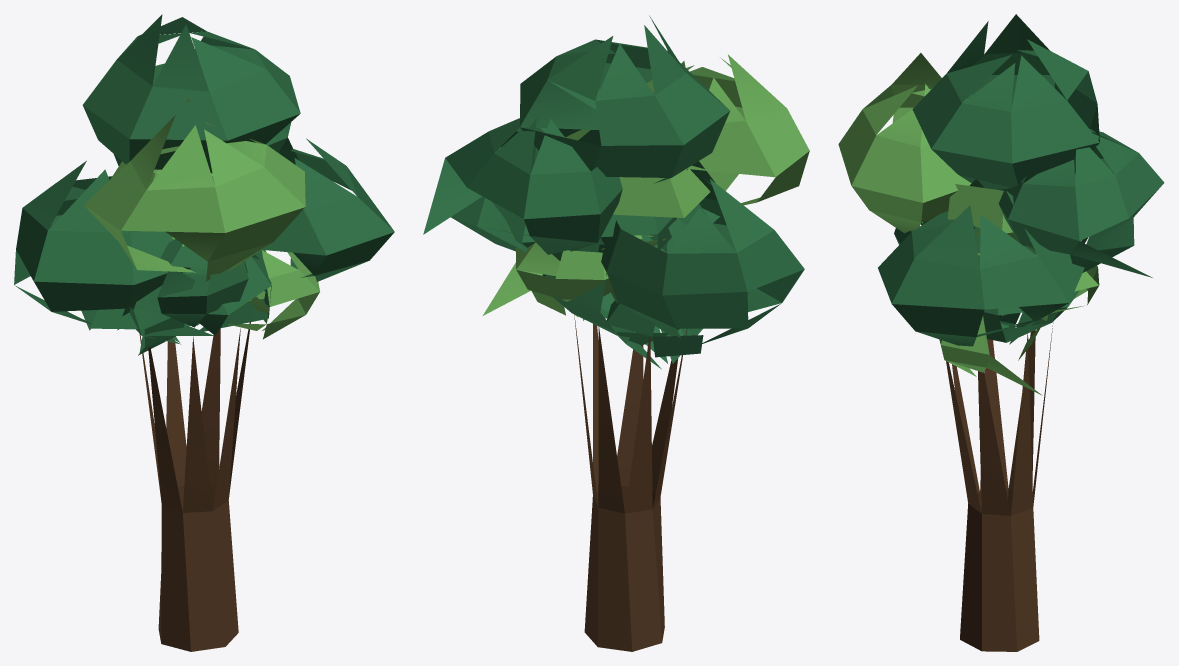
File: tree_c_lod1.glb
3 renders of one model, left to right at view 1: azimuth 30°, elevation 25°; view 2: azimuth 150°, elevation 25°; view 3: azimuth 270°, elevation 25°, orthographic.
Visible parts, largest first — view 1: TREE_C; view 2: TREE_C; view 3: TREE_C.
Boxes of the visible parts, x1,y1,x2,y2 form: TREE_C: [14, 14, 394, 651]; TREE_C: [423, 15, 809, 651]; TREE_C: [838, 14, 1164, 651].
Size of the model in its own units: 4.34 by 7.92 by 3.83.
